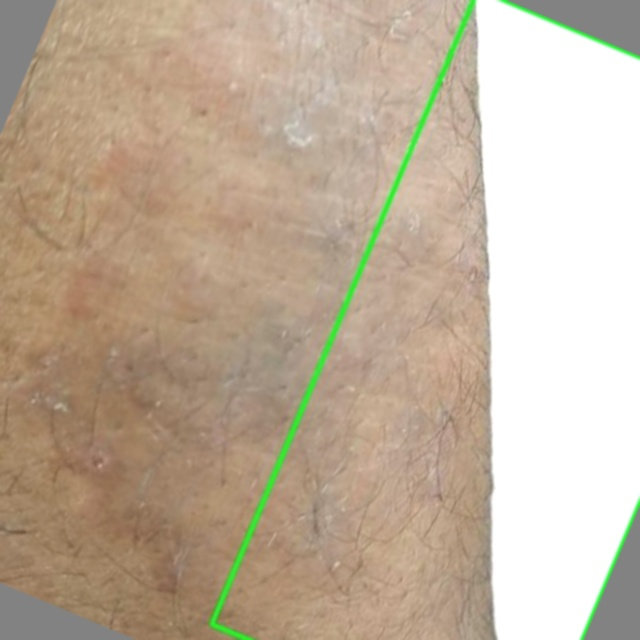Tinea Corporis: (211, 0, 639, 639)
